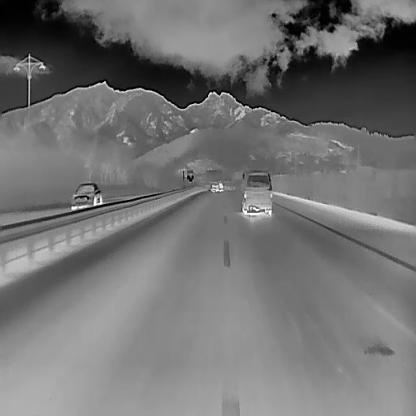car: (240, 168, 273, 217), (70, 182, 102, 211), (210, 180, 219, 192), (217, 182, 224, 192)
